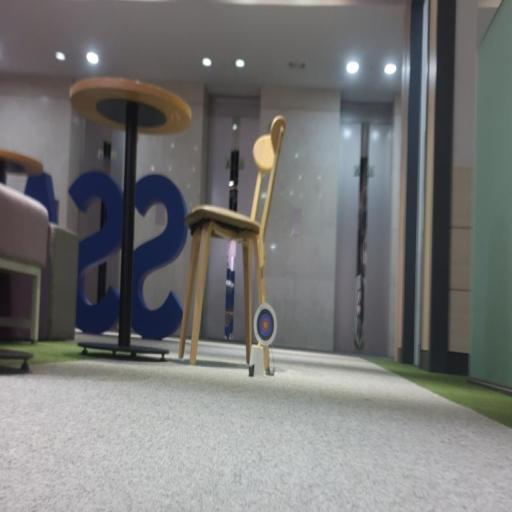target: (254, 304, 276, 345)
